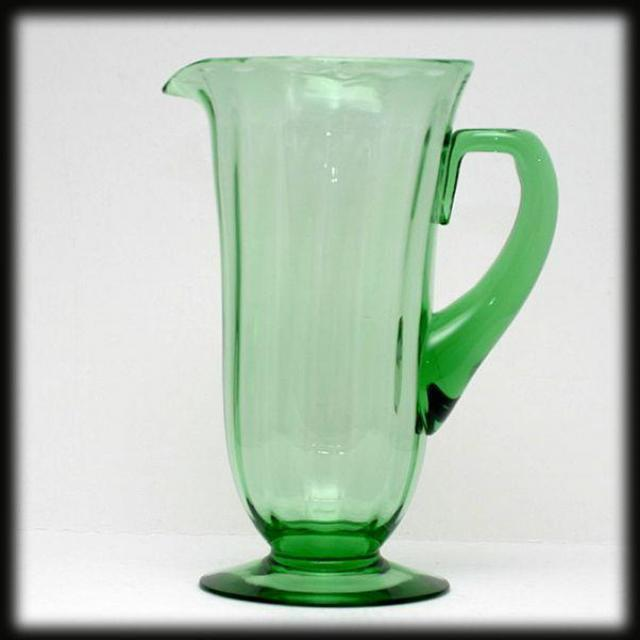glass: (153, 41, 570, 620)
